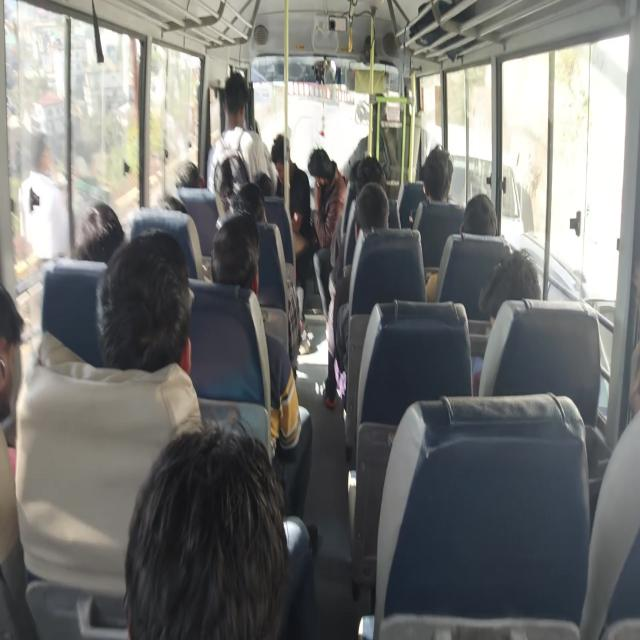person: (121, 454, 334, 640), (102, 238, 182, 354), (0, 226, 24, 414), (211, 221, 260, 295), (74, 205, 131, 264), (419, 147, 459, 216), (223, 80, 264, 144), (486, 248, 520, 318), (350, 181, 384, 242), (150, 185, 185, 227), (471, 193, 507, 231), (179, 156, 211, 194), (236, 187, 261, 227), (628, 326, 640, 399), (358, 154, 388, 183), (216, 158, 241, 192), (245, 168, 272, 195), (276, 126, 294, 162), (312, 145, 334, 173), (417, 161, 439, 188)
